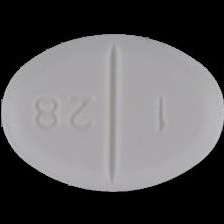42543-706: (0, 0, 224, 224)
